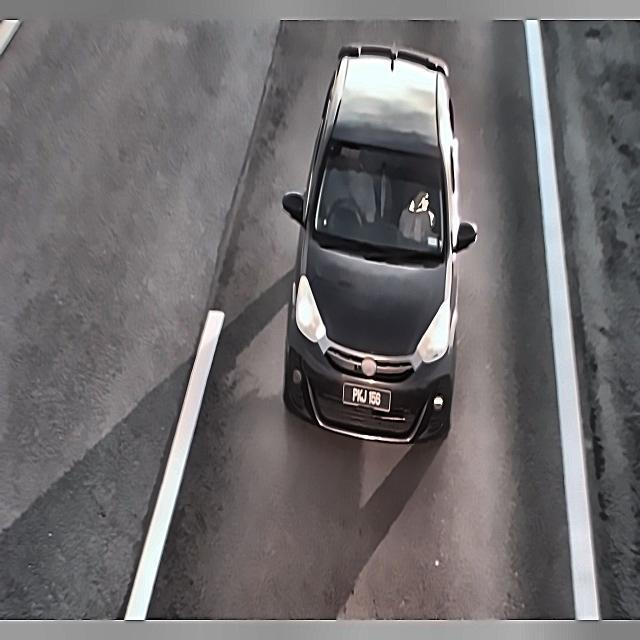car: (334, 372, 400, 419)
